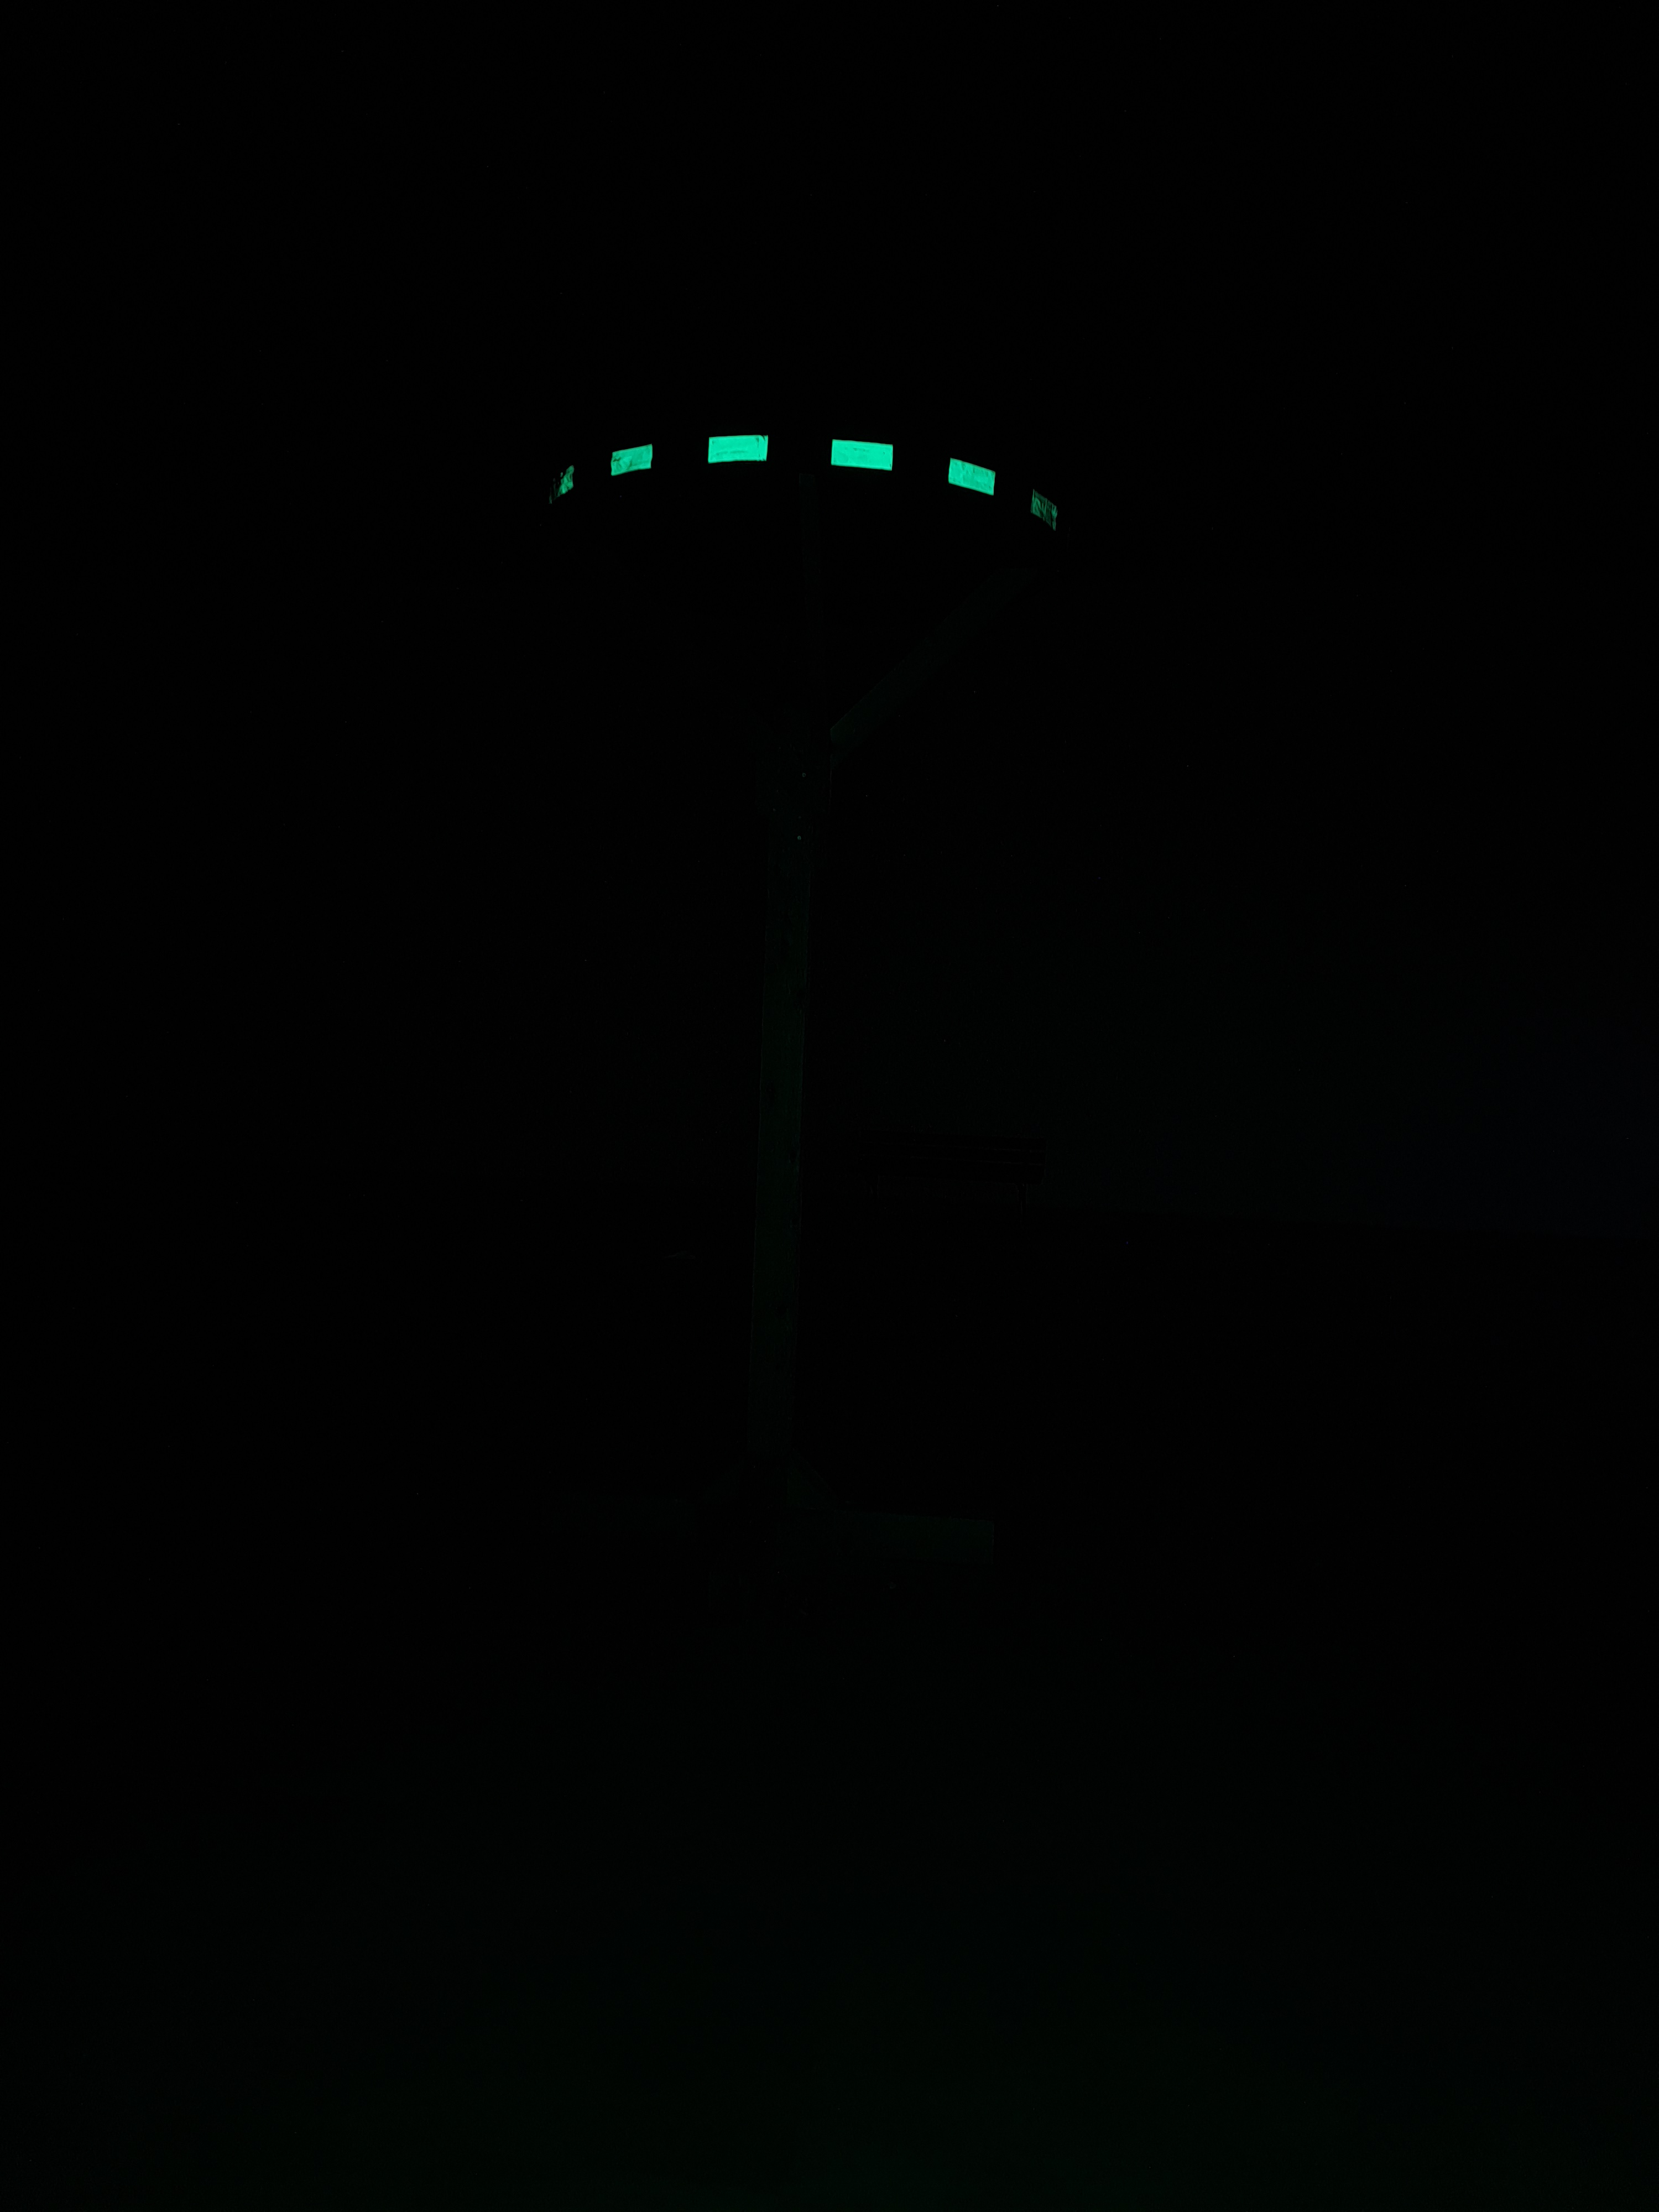hoop: (542, 425, 1061, 531)
